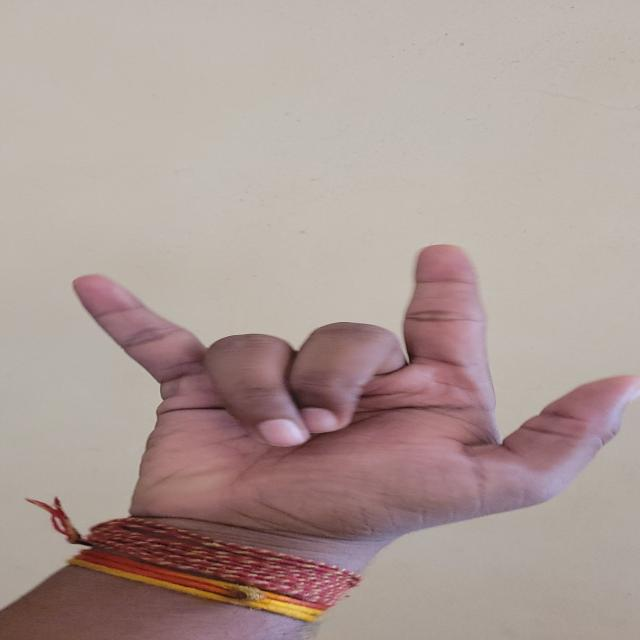i like you: (40, 220, 640, 554)
